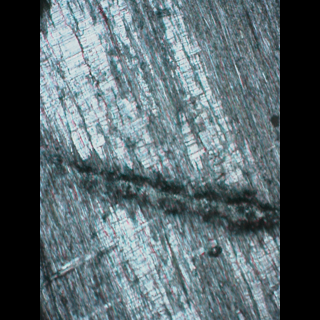d: (51, 144, 280, 234)
